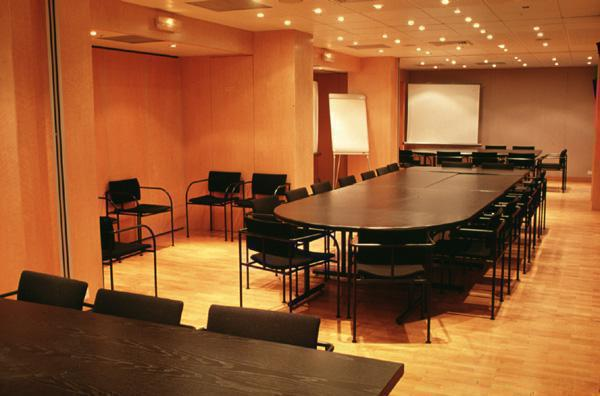Otro Obstaculo: (323, 86, 375, 173)
